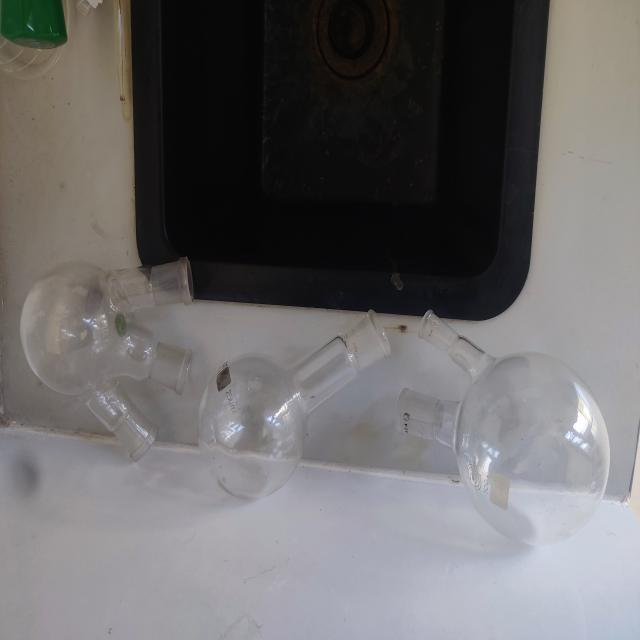Round_Bottom_Flask_Borosilicate_Glass_1_Neck: (189, 280, 403, 522)
Round_Bottom_Flask_Borosilicate_Glass_2_Neck: (381, 263, 627, 591)
Round_Bottom_Flask_Borosilicate_Glass_3_Neck: (10, 216, 225, 490)
